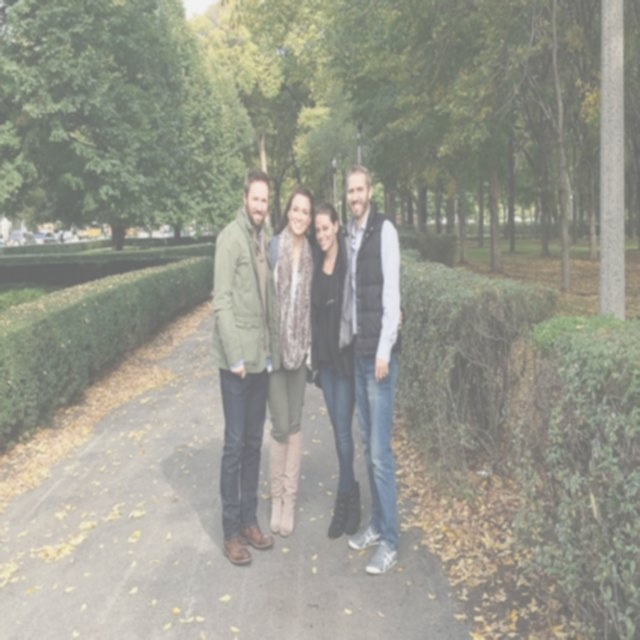pessoa: (308, 200, 404, 542), (208, 168, 278, 574), (336, 158, 403, 579), (260, 175, 320, 543)
